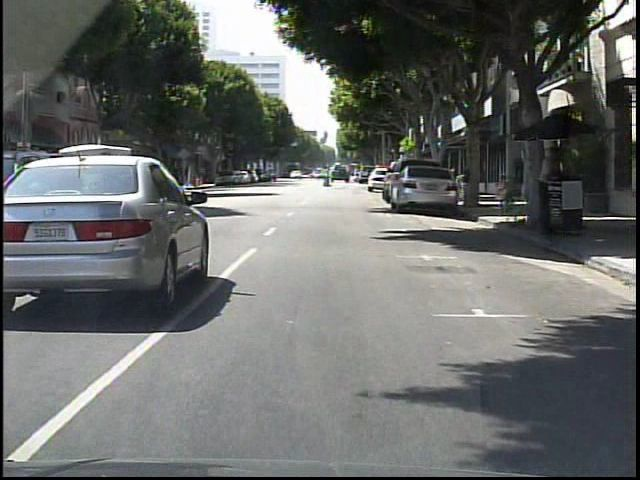person: (535, 145, 568, 230), (321, 168, 333, 189)
